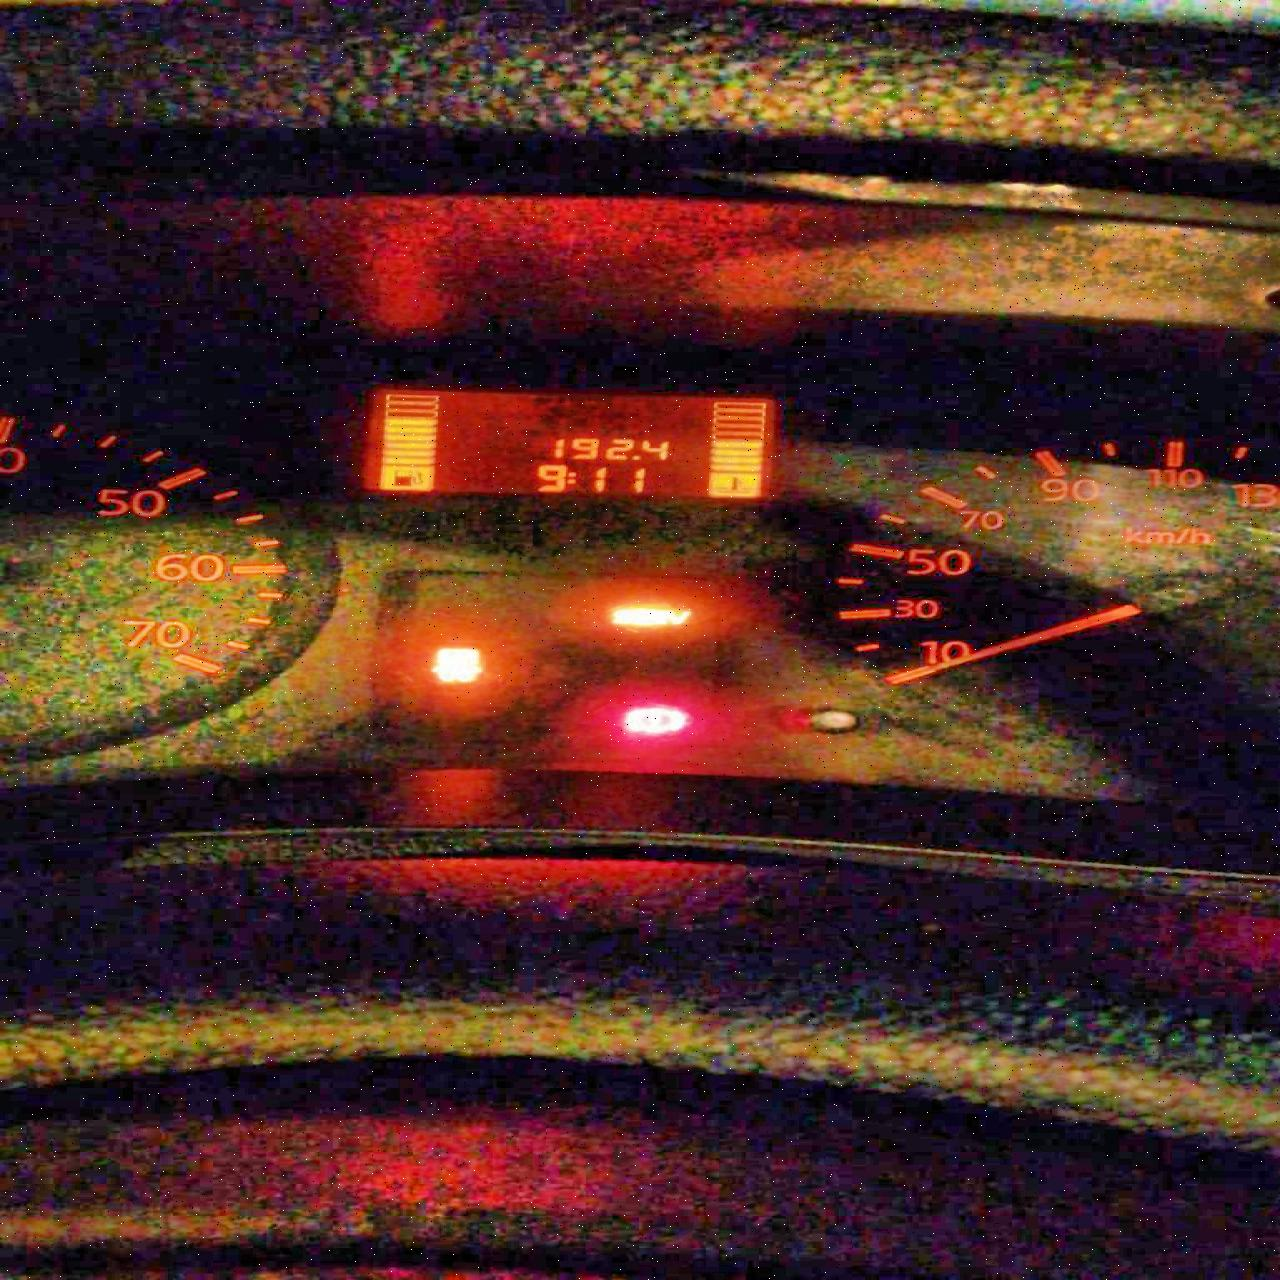-: (629, 455, 641, 461)
1: (591, 465, 606, 492), (631, 468, 645, 492), (551, 437, 564, 458)
2: (602, 437, 634, 461)
4: (639, 440, 669, 459)
9: (535, 464, 566, 492), (567, 437, 599, 459)
X: (564, 471, 576, 484)
odometer: (360, 387, 777, 501)
